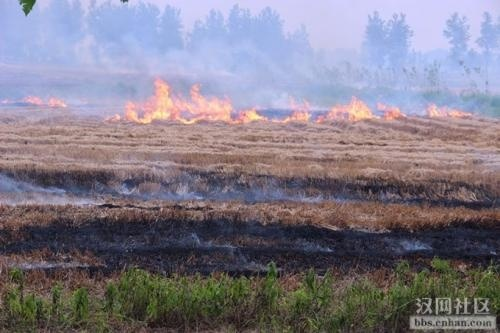fire: (113, 79, 424, 131)
